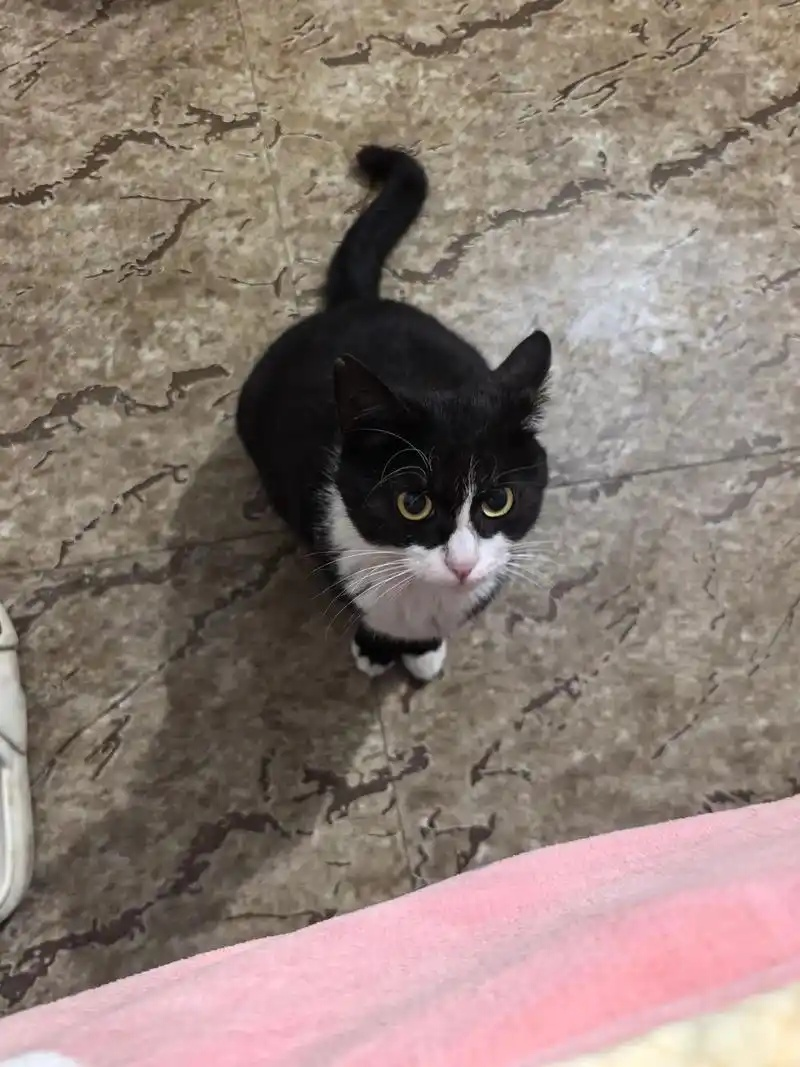奶牛猫: (237, 146, 549, 680)
